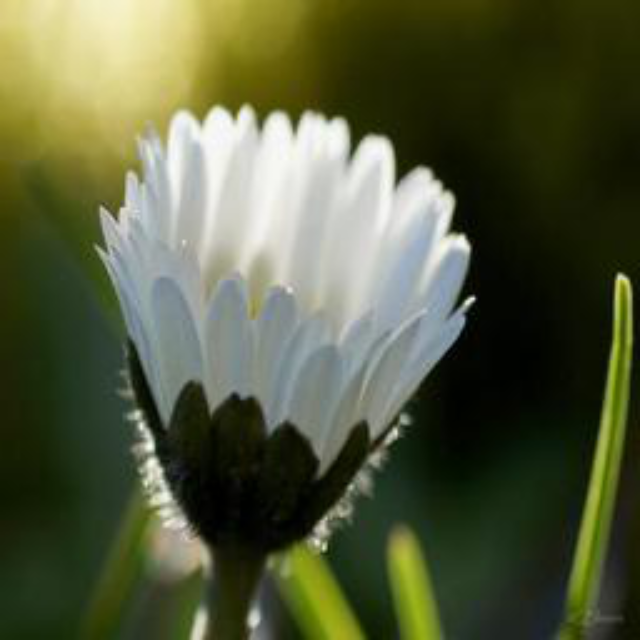daisy: (91, 102, 481, 634)
